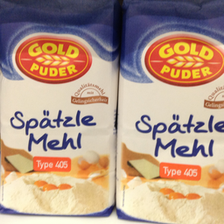flour: (1, 1, 117, 218), (116, 3, 224, 217)
